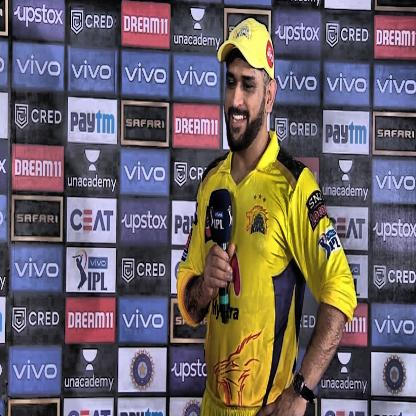BCCI: (128, 348, 157, 392), (382, 355, 408, 394)
CRED: (31, 106, 63, 128), (137, 261, 167, 280), (29, 310, 60, 327), (388, 267, 416, 285), (14, 101, 30, 131), (85, 13, 113, 29), (290, 122, 318, 138), (12, 306, 27, 335), (341, 27, 368, 43), (70, 8, 84, 35), (326, 21, 340, 48), (274, 117, 289, 142), (373, 263, 387, 289), (122, 257, 135, 283), (174, 161, 187, 187)
Chennai Super kings: (245, 206, 268, 240)
Dream11: (124, 14, 169, 37), (15, 158, 61, 179), (173, 116, 219, 137), (67, 311, 116, 330), (375, 29, 415, 49)
IPL: (71, 248, 87, 291), (89, 273, 107, 291)
Paytm: (70, 107, 116, 136), (324, 121, 366, 147)
TATA Safari: (17, 211, 61, 230), (377, 124, 416, 145), (126, 117, 167, 133)
Unacademy: (66, 174, 118, 193), (320, 376, 369, 394), (322, 185, 371, 203), (64, 376, 114, 392), (85, 147, 102, 173), (83, 348, 98, 373), (337, 352, 352, 376), (337, 159, 352, 183)
Upstox: (14, 3, 63, 28), (121, 209, 168, 235), (275, 23, 320, 45), (373, 218, 416, 241)
Vivo: (13, 256, 61, 283), (16, 54, 61, 81), (12, 356, 58, 382), (124, 60, 168, 86), (122, 307, 165, 332), (374, 313, 416, 338), (124, 160, 166, 184), (177, 64, 217, 89), (326, 72, 368, 95), (376, 73, 416, 97), (278, 70, 318, 92), (71, 59, 109, 81), (375, 170, 415, 190), (87, 256, 110, 269)
